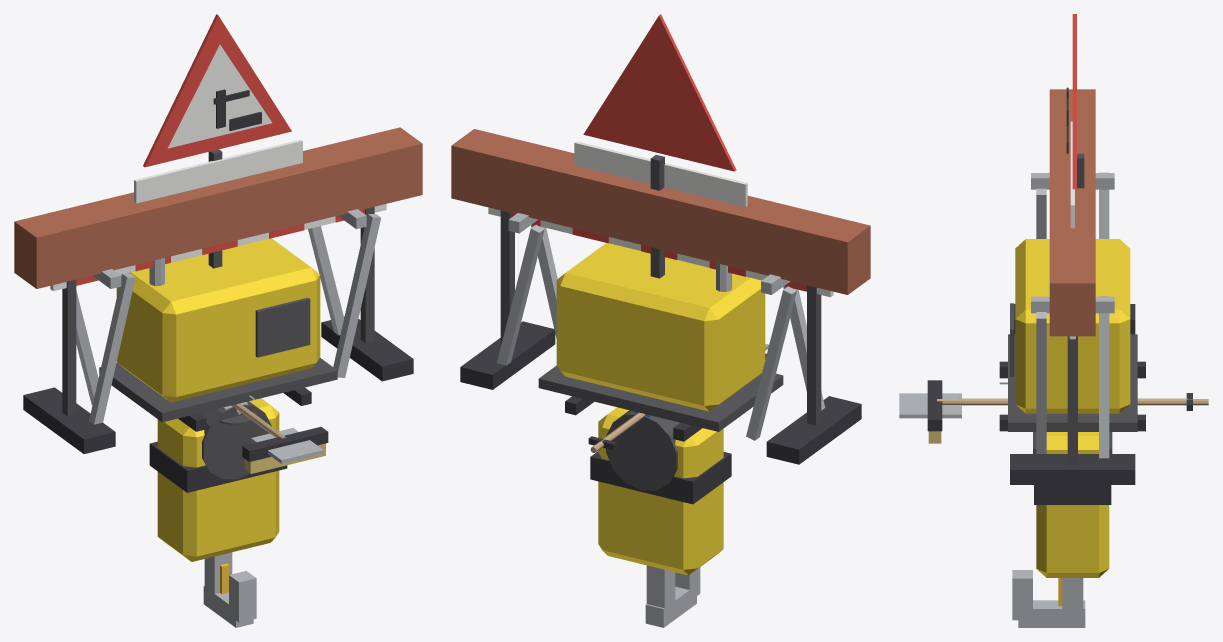
Rendered from works_kit.glb.
3 renders of one model, left to right at view 1: azimuth 30°, elevation 25°; view 2: azimuth 150°, elevation 25°; view 3: azimuth 270°, elevation 25°, orthographic. The views are drawn at different scales.
Parts seen in each view (by area): view 1: tr_beam, gen_body, hb_body, sg_rim, gen_frame, sg_plate, sg_face, hb_sheave, ba_foot, gen_panel, tr_leg.003, ba_foot.001 (+13 smaller); view 2: tr_beam, gen_body, hb_body, sg_rim, gen_frame, hb_sheave, sg_plate, ba_foot, ba_foot.001, hb_stripe, tr_leg, ba_post (+8 smaller); view 3: gen_body, tr_beam, hb_body, ba_foot.001, gen_frame, tr_leg.002, hb_hook_a, tr_leg.003, hb_stripe, ba_post.001, sh_blade, hb_hook_b (+8 smaller).
Part boxes in pixels (bbox=[...]): tr_beam: bbox=[14, 127, 422, 288]; gen_body: bbox=[116, 238, 320, 402]; hb_body: bbox=[157, 398, 279, 561]; sg_rim: bbox=[143, 14, 291, 167]; gen_frame: bbox=[99, 358, 337, 422]; sg_plate: bbox=[134, 139, 302, 203]; sg_face: bbox=[167, 44, 272, 148]; hb_sheave: bbox=[200, 401, 271, 479]; ba_foot: bbox=[23, 387, 115, 453]; gen_panel: bbox=[255, 297, 310, 357]; tr_leg.003: bbox=[333, 214, 380, 377]; ba_foot.001: bbox=[321, 316, 413, 381]; tr_beam: bbox=[451, 129, 870, 294]; gen_body: bbox=[556, 243, 765, 411]; hb_body: bbox=[598, 407, 723, 575]; sg_rim: bbox=[583, 14, 736, 171]; gen_frame: bbox=[538, 365, 783, 431]; hb_sheave: bbox=[606, 410, 679, 490]; sg_plate: bbox=[574, 141, 747, 206]; ba_foot: bbox=[766, 396, 861, 464]; ba_foot.001: bbox=[460, 321, 555, 389]; hb_stripe: bbox=[590, 451, 731, 504]; tr_leg: bbox=[746, 286, 796, 440]; ba_post: bbox=[807, 285, 821, 425]; gen_body: bbox=[1015, 239, 1130, 413]; tr_beam: bbox=[1049, 89, 1095, 336]; hb_body: bbox=[1036, 432, 1109, 577]; ba_foot.001: bbox=[1010, 454, 1135, 484]; gen_frame: bbox=[1008, 334, 1137, 431]; tr_leg.002: bbox=[1099, 296, 1109, 458]; hb_hook_a: bbox=[1018, 600, 1085, 627]; tr_leg.003: bbox=[1036, 312, 1046, 453]; hb_stripe: bbox=[1034, 485, 1111, 504]; ba_post.001: bbox=[1067, 336, 1077, 464]; sh_blade: bbox=[899, 393, 961, 418]; hb_hook_b: bbox=[1012, 570, 1032, 620].
Bounding box in the file's own units: 2.2 × 3.22 × 1.48.
